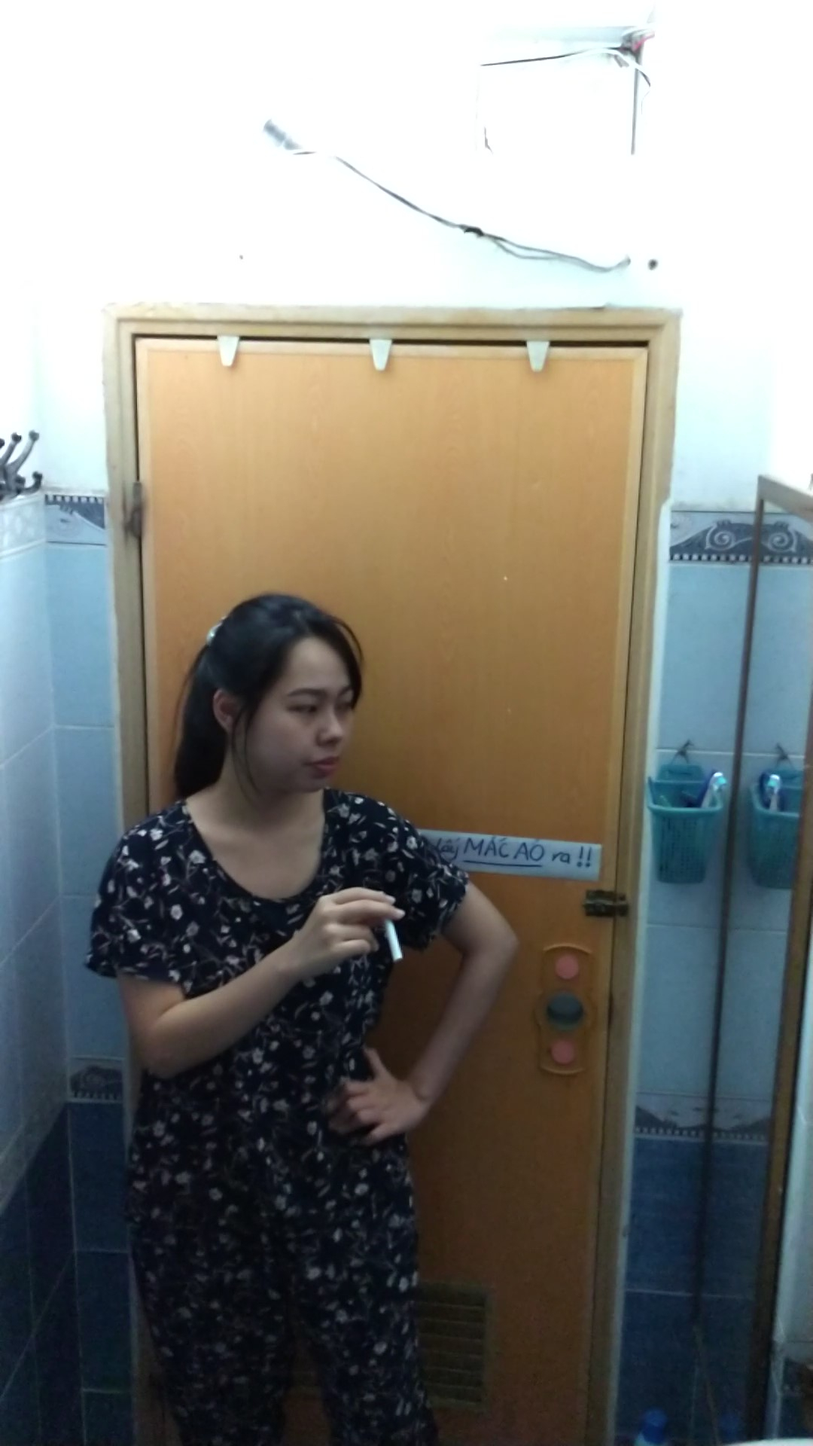cigarette: (381, 920, 409, 968)
person: (84, 590, 466, 1446)
